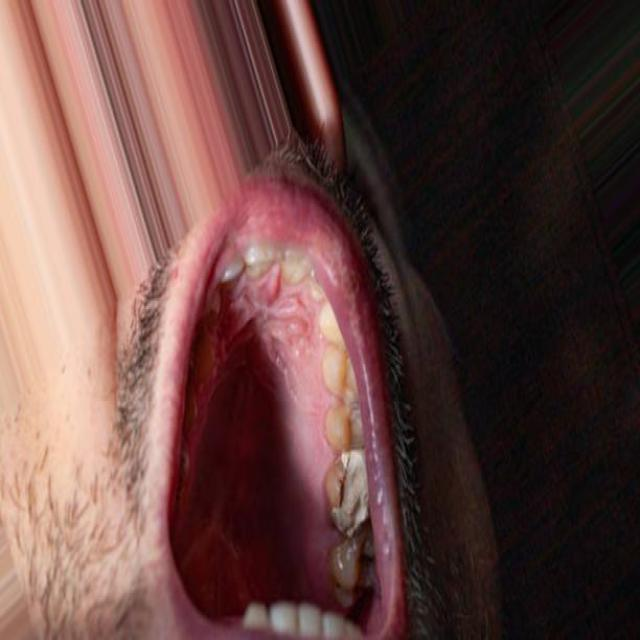caries: (323, 441, 378, 540)
